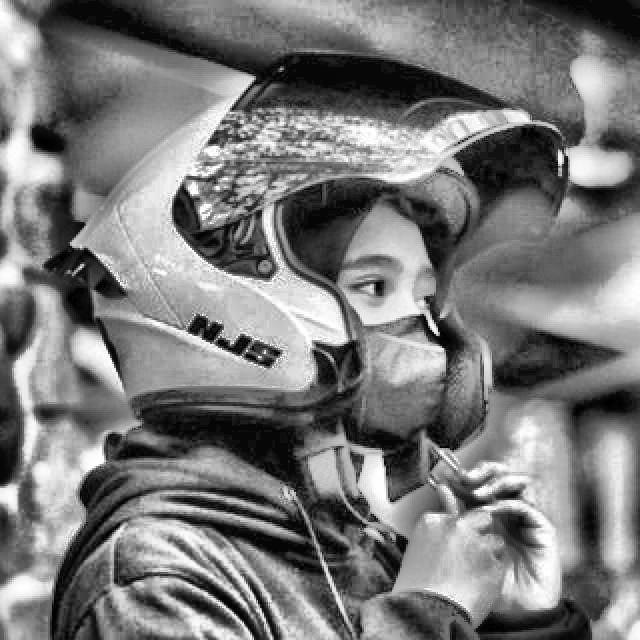Helmet: (45, 36, 568, 475)
